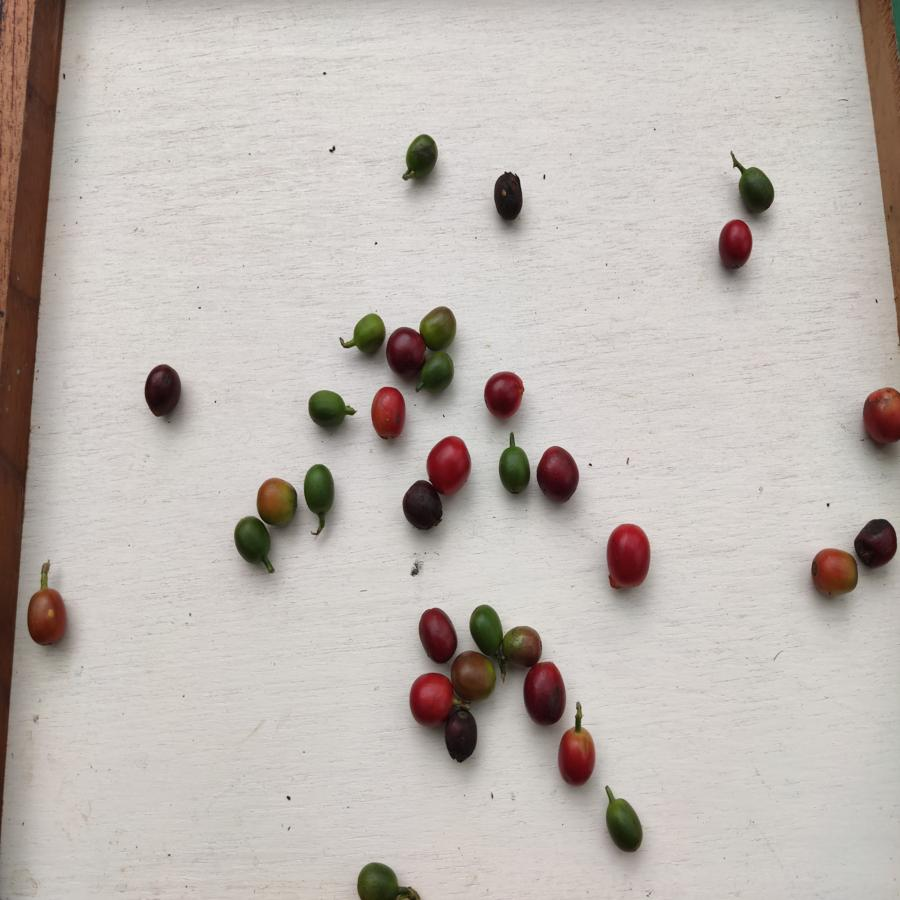Inmaduro: (303, 461, 338, 535), (602, 799, 647, 856), (736, 163, 776, 216), (234, 518, 273, 569), (496, 443, 534, 494), (355, 860, 402, 900), (420, 302, 459, 350), (467, 603, 503, 653), (306, 390, 349, 430), (402, 131, 438, 178), (349, 312, 385, 357), (423, 352, 454, 401)
Maduro: (604, 520, 654, 592), (424, 435, 472, 490), (863, 385, 900, 454), (557, 728, 597, 788), (715, 219, 759, 273), (408, 673, 449, 728), (371, 386, 409, 442)
Pinton: (807, 546, 859, 598), (26, 589, 71, 648), (451, 651, 500, 704), (256, 476, 301, 527), (503, 626, 544, 664)
Sobremaduro: (536, 441, 582, 504), (524, 662, 568, 726), (415, 606, 461, 662), (856, 514, 898, 569), (143, 363, 184, 419), (483, 369, 527, 420), (488, 170, 529, 224), (386, 326, 424, 379), (403, 481, 444, 530), (447, 709, 483, 764)
